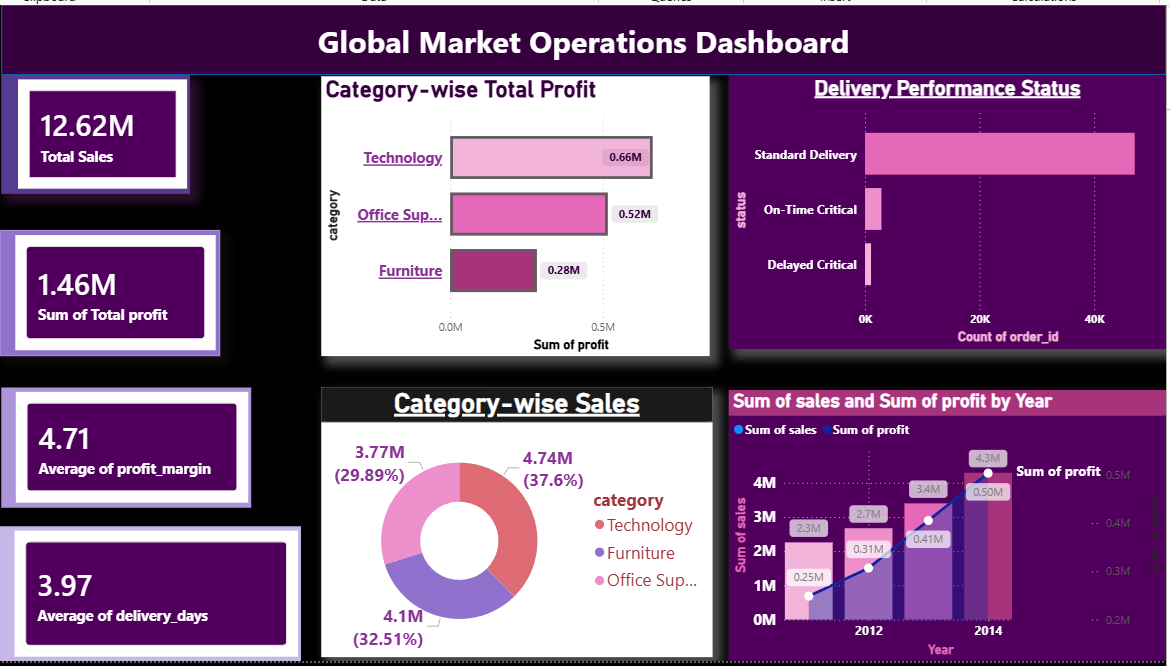

What the dashboard file says about the page in this screenshot:
{"tool":"powerbi","page":{"name":"Page 1","canvas":[1280,720],"ordinal":0},"visuals":[{"type":"cardVisual","fields":{"Data":["Sum(global_sales_data.sales)"]},"box":[1.4,76.8,207.2,130.4],"z":0},{"type":"cardVisual","fields":{"Data":["Sum(global_sales_data.profit)"]},"box":[0,247,241.5,138.6],"z":1000},{"type":"cardVisual","fields":{"Data":["Avg(global_sales_data.profit_margin_percent)"]},"box":[1.4,419.9,274.4,131.7],"z":2000},{"type":"cardVisual","fields":{"Data":["Avg(global_sales_data.delivery_days)"]},"box":[0,572.2,330.7,148.2],"z":3000},{"type":"barChart","title":"Category-wise Total Profit","fields":{"Category":["global_sales_data.category"],"Y":["Sum(global_sales_data.profit)"]},"box":[352.7,78.2,426.8,307.4],"z":5000},{"type":"lineClusteredColumnComboChart","fields":{"Category":["global_sales_data.order_date.Variation.Date Hierarchy.Year","global_sales_data.order_date.Variation.Date Hierarchy.Quarter","global_sales_data.order_date.Variation.Date Hierarchy.Month","global_sales_data.order_date.Variation.Date Hierarchy.Day"],"Y":["Sum(global_sales_data.sales)"],"Y2":["Sum(global_sales_data.profit)"]},"box":[800,422.6,480.3,297.8],"z":6000},{"type":"donutChart","title":"Category-wise Sales","fields":{"Category":["global_sales_data.category"],"Y":["Sum(global_sales_data.sales)"]},"box":[352.7,419.9,429.5,296.4],"z":7000},{"type":"clusteredBarChart","title":"Delivery Performance Status","fields":{"Category":["global_sales_data.delivery_performance_status"],"Y":["CountNonNull(global_sales_data.order_id)"]},"box":[800,76.8,480.3,300.5],"z":8000},{"type":"shape","box":[1.4,0,1278.9,76.8],"z":10000}]}

Visuals, with their boxes in screenshot pixels (x1, y1, x2, y2):
cardVisual - Sum(global_sales_data.sales): BBox(7, 72, 194, 190)
cardVisual - Sum(global_sales_data.profit): BBox(6, 226, 224, 351)
cardVisual - Avg(global_sales_data.profit_margin_percent): BBox(7, 382, 255, 500)
cardVisual - Avg(global_sales_data.delivery_days): BBox(6, 519, 304, 652)
"Category-wise Total Profit" barChart: BBox(324, 74, 709, 351)
lineClusteredColumnComboChart - global_sales_data.order_date.Variation.Date Hierarchy.Year x global_sales_data.order_date.Variation.Date Hierarchy.Quarter: BBox(727, 384, 1160, 652)
"Category-wise Sales" donutChart: BBox(324, 382, 711, 649)
"Delivery Performance Status" clusteredBarChart: BBox(727, 72, 1160, 343)
shape: BBox(7, 3, 1160, 72)
